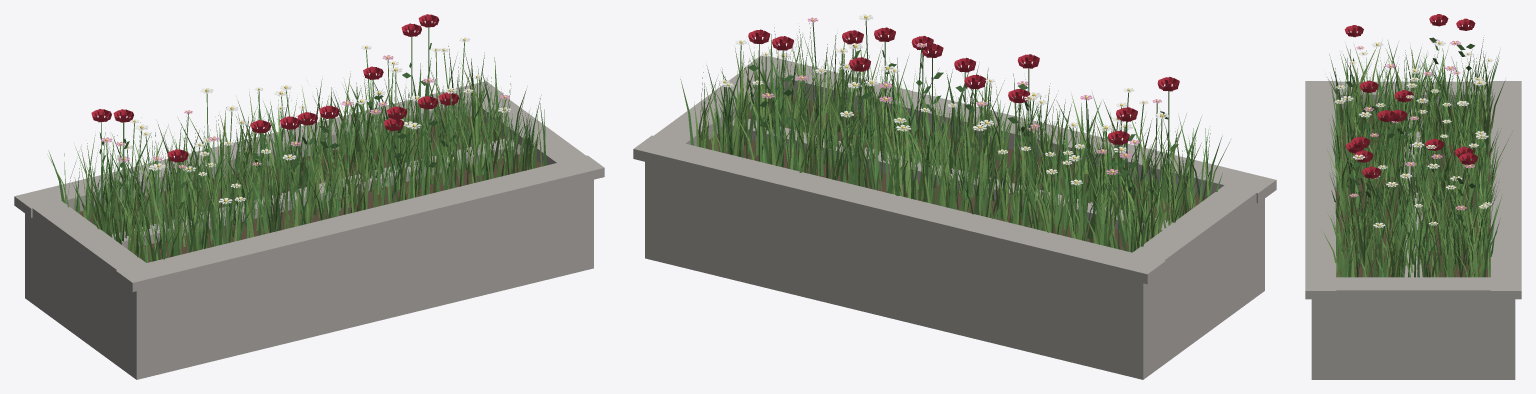
File: G_FlowerPlanter.fbx
3 views of the same model, side by side, from view 1: azimuth 30°, elevation 25°; view 2: azimuth 150°, elevation 25°; view 3: azimuth 270°, elevation 25° (orthographic). The views are drawn at different scales.
Visible parts, largest first — view 1: G_FlowerPlanter; view 2: G_FlowerPlanter; view 3: G_FlowerPlanter.
Part boxes in pixels (<box>): G_FlowerPlanter: <box>14,14,604,379</box>; G_FlowerPlanter: <box>633,14,1276,379</box>; G_FlowerPlanter: <box>1305,14,1521,379</box>.
Bounding box in the file's own units: 3.22 × 1.36 × 1.4.
